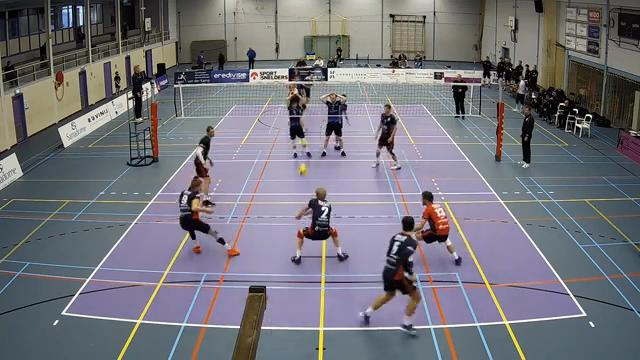Player: (360, 216, 420, 335), (178, 177, 239, 255), (415, 191, 461, 265), (372, 104, 400, 169), (287, 91, 311, 157), (194, 126, 214, 205), (320, 93, 345, 156), (340, 94, 348, 123)
Receive: (289, 184, 352, 268)
ball: (297, 163, 308, 177)
